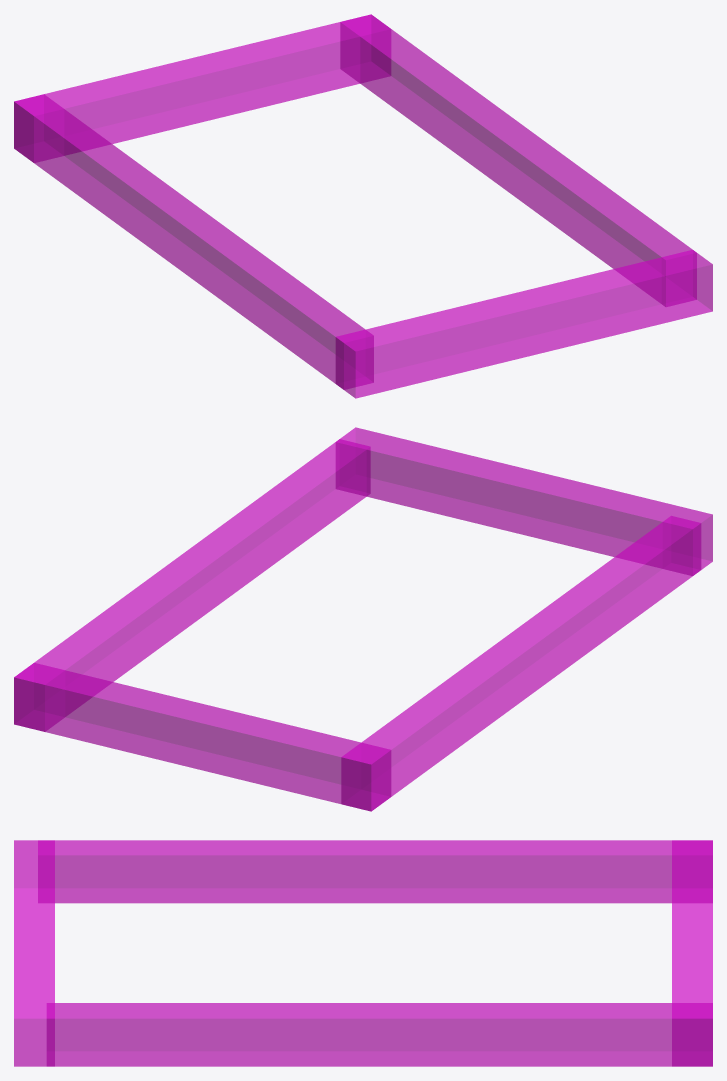
The model's file is SM_Veh_Ship_Grate_04_Collision.fbx.
The picture shows the model from 3 angles, top to bottom: view 1: azimuth 30°, elevation 25°; view 2: azimuth 150°, elevation 25°; view 3: azimuth 270°, elevation 25°; orthographic projection. The views are drawn at different scales.
Parts seen in each view (by area): view 1: SM_Veh_Ship_Grate_04_Collision; view 2: SM_Veh_Ship_Grate_04_Collision; view 3: SM_Veh_Ship_Grate_04_Collision.
Part boxes in pixels (x1,y1,x2,y2): SM_Veh_Ship_Grate_04_Collision: (14,14,712,398); SM_Veh_Ship_Grate_04_Collision: (14,427,712,811); SM_Veh_Ship_Grate_04_Collision: (14,840,712,1066).
Size of the model in its own units: 279 by 35.05 by 461.
